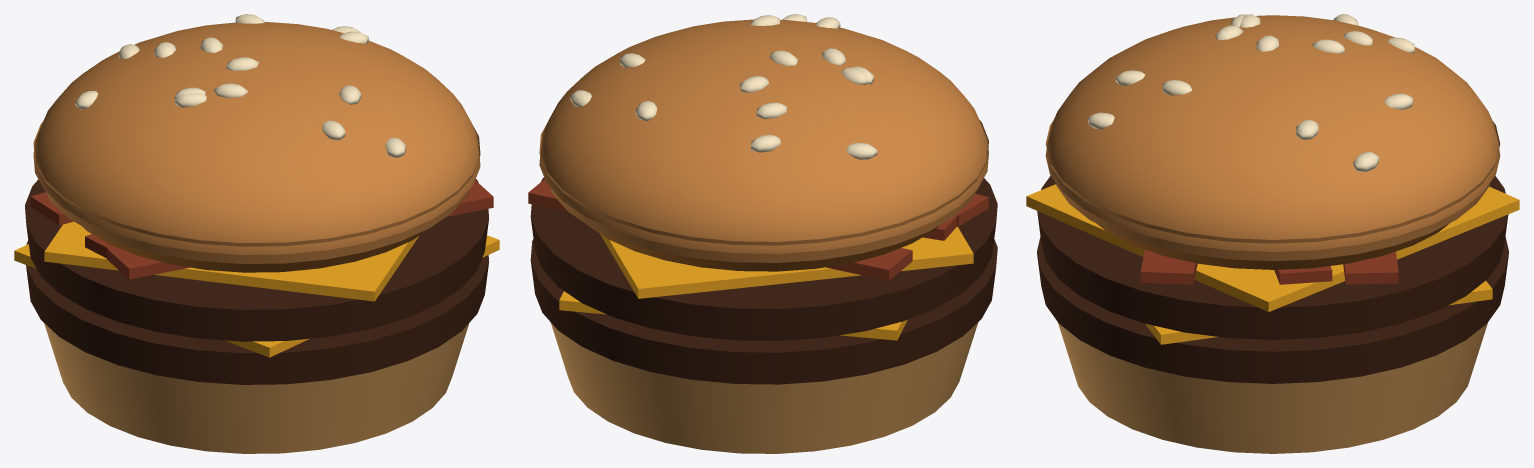
File: burger-doble-dulce.glb
The picture shows the model from 3 angles, left to right: view 1: azimuth 30°, elevation 25°; view 2: azimuth 150°, elevation 25°; view 3: azimuth 270°, elevation 25°; orthographic projection.
Size of the model in its own units: 0.1742 by 0.126 by 0.1742.
